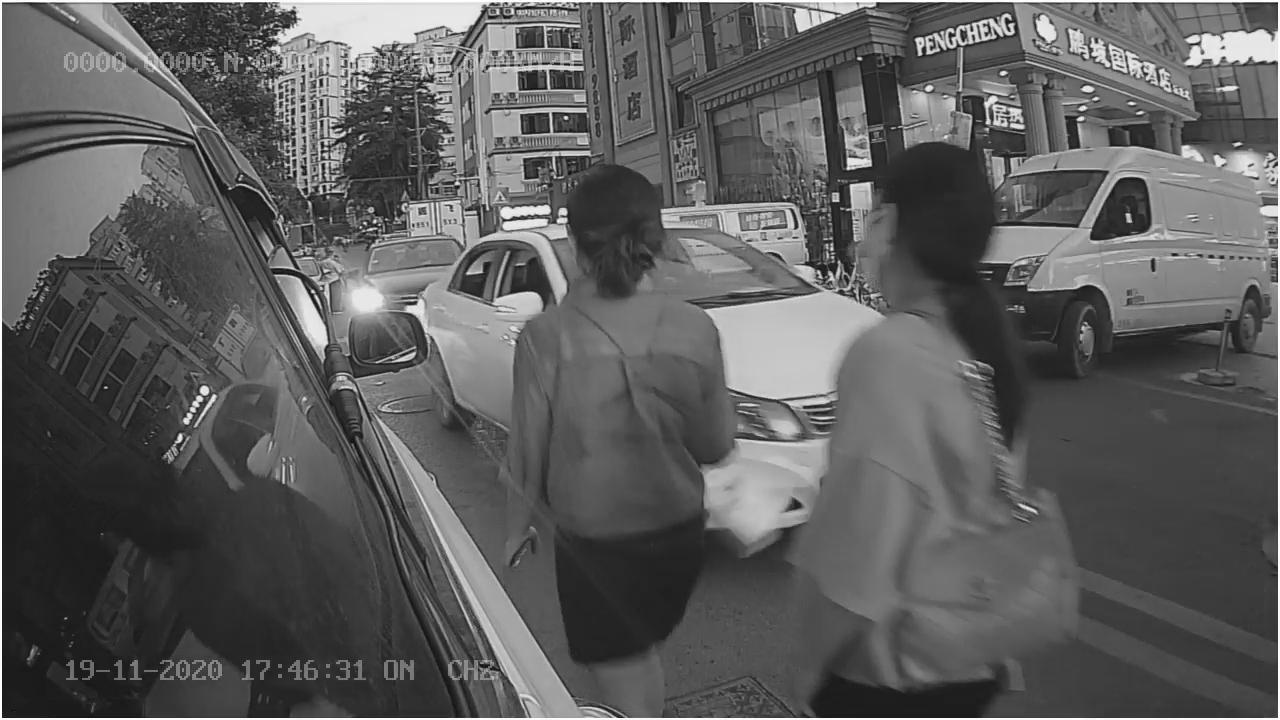person: (819, 140, 1056, 623), (513, 167, 742, 577)
